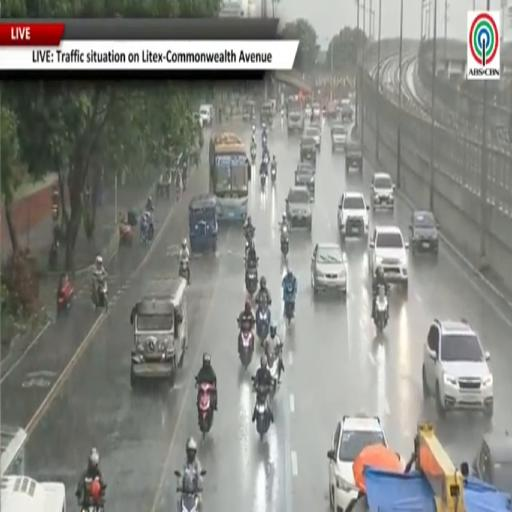bus: (0, 426, 65, 511), (209, 133, 248, 221), (0, 426, 27, 476)
car: (423, 319, 493, 418), (328, 415, 387, 511), (369, 226, 408, 293), (473, 431, 511, 495), (311, 244, 347, 295), (338, 192, 369, 241), (409, 211, 438, 255), (286, 186, 312, 231), (371, 172, 394, 210), (295, 163, 315, 201), (345, 138, 363, 173), (300, 136, 316, 166), (331, 123, 347, 152), (304, 124, 321, 151), (340, 99, 353, 123), (200, 104, 214, 125), (193, 111, 203, 127), (312, 103, 321, 119), (305, 104, 312, 118)
jeepney: (131, 278, 187, 388), (189, 195, 217, 252), (261, 102, 273, 125), (242, 101, 255, 121)
motorcycle: (174, 469, 206, 511), (197, 382, 215, 438), (81, 477, 106, 511), (255, 387, 270, 440), (268, 347, 281, 398), (374, 285, 388, 331), (57, 279, 74, 315), (239, 330, 254, 369), (256, 304, 270, 344), (93, 280, 107, 310), (140, 215, 152, 244), (48, 239, 59, 270), (119, 222, 133, 246), (246, 266, 257, 296), (280, 224, 288, 258), (285, 299, 294, 326), (179, 261, 190, 283), (245, 226, 254, 248), (52, 203, 60, 222), (250, 146, 256, 164), (176, 182, 181, 202), (271, 166, 276, 184), (182, 174, 187, 191), (261, 173, 266, 188), (262, 133, 267, 147)
truck: (287, 96, 304, 134)
